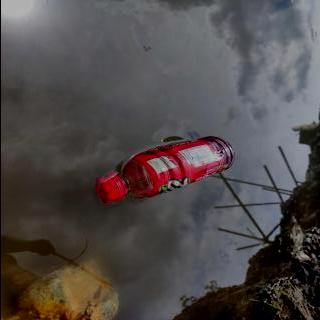bottle: (92, 135, 238, 205)
